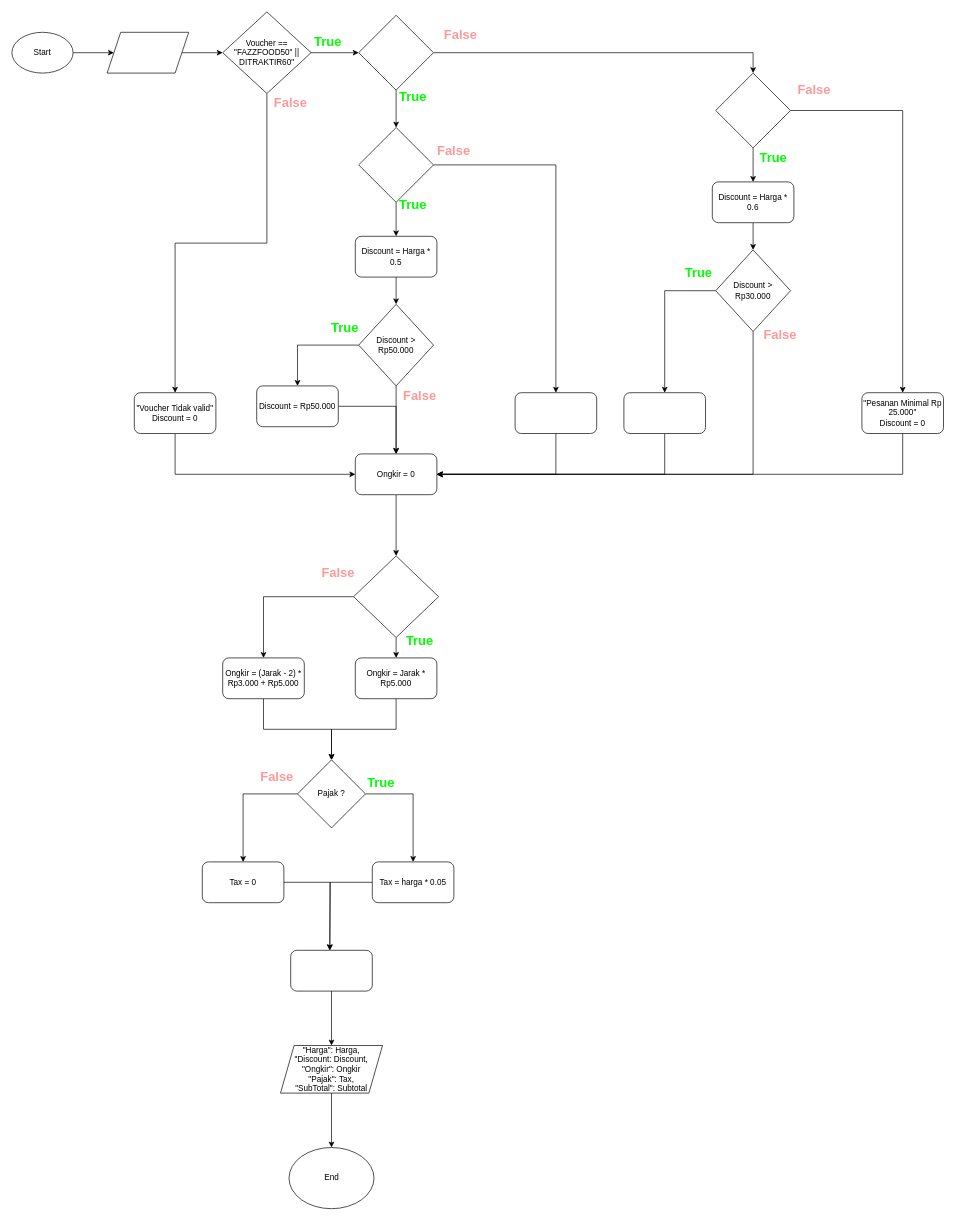
This 955x1221 diagram has some shape labels left out. The box of each missing label's shape, as (x1, y1, x2, y2) in pixels:
"Pesanan Minimal Rp 50.000" Discount = 0: (514, 392, 597, 434)
Discount = Rp30.000: (623, 392, 706, 434)
Harga >= Rp25.000: (715, 72, 790, 148)
Harga >= Rp50.000: (358, 127, 434, 202)
Harga, Voucher, Jarak, Pajak: (106, 32, 189, 73)
Jarak <= 2km: (353, 555, 439, 638)
SubTotal = (Harga - Discount) + Ongkir + Tax: (290, 950, 372, 991)
Voucher == "FAZZFOOD50": (358, 15, 434, 90)
